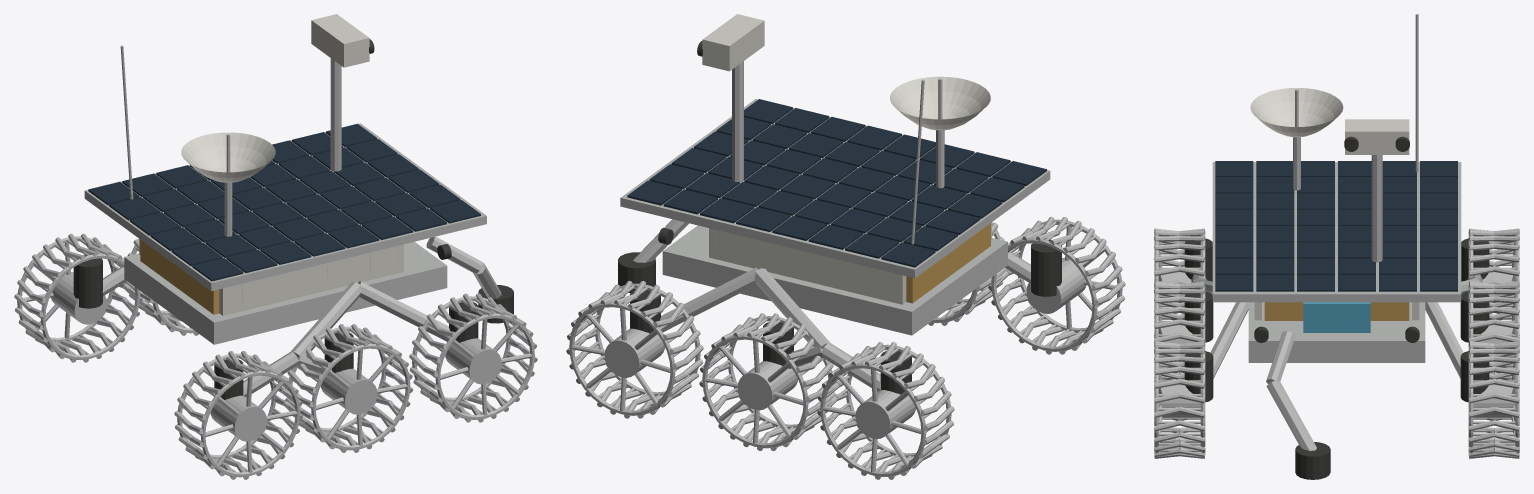
File: science-rover-blue.glb
The picture shows the model from 3 angles, left to right: view 1: azimuth 30°, elevation 25°; view 2: azimuth 150°, elevation 25°; view 3: azimuth 270°, elevation 25°; orthographic projection. The views are drawn at different scales.
Visible parts, largest first — view 1: Rover body • science instruments, wheel_-1_0.76, wheel_-1_-0.9, wheel_-1_-0.12, wheel_1_-0.9, wheel_1_-0.12; view 2: Rover body • science instruments, wheel_1_0.76, wheel_1_-0.9, wheel_1_-0.12, wheel_-1_-0.9, wheel_-1_-0.12; view 3: Rover body • science instruments, wheel_1_0.76, wheel_-1_0.76, wheel_1_-0.12, wheel_-1_-0.12, wheel_1_-0.9, wheel_-1_-0.9.
Boxes of the visible parts, left/top/right/bottom form: Rover body • science instruments: left=73, top=14, right=513, bottom=399; wheel_-1_0.76: left=409, top=293, right=537, bottom=422; wheel_-1_-0.9: left=174, top=351, right=302, bottom=479; wheel_-1_-0.12: left=285, top=324, right=412, bottom=452; wheel_1_-0.9: left=14, top=233, right=142, bottom=362; wheel_1_-0.12: left=125, top=239, right=198, bottom=335; Rover body • science instruments: left=618, top=14, right=1061, bottom=394; wheel_1_0.76: left=566, top=280, right=703, bottom=418; wheel_1_-0.9: left=817, top=342, right=954, bottom=479; wheel_1_-0.12: left=699, top=313, right=835, bottom=451; wheel_-1_-0.9: left=988, top=216, right=1125, bottom=354; wheel_-1_-0.12: left=928, top=222, right=1006, bottom=325; Rover body • science instruments: left=1184, top=14, right=1489, bottom=479; wheel_1_0.76: left=1468, top=341, right=1519, bottom=458; wheel_-1_0.76: left=1154, top=341, right=1205, bottom=458; wheel_1_-0.12: left=1468, top=281, right=1519, bottom=390; wheel_-1_-0.12: left=1154, top=281, right=1205, bottom=390; wheel_1_-0.9: left=1468, top=228, right=1519, bottom=337; wheel_-1_-0.9: left=1154, top=228, right=1205, bottom=337.
Size of the model in its own units: 2.78 by 2.26 by 2.28.
